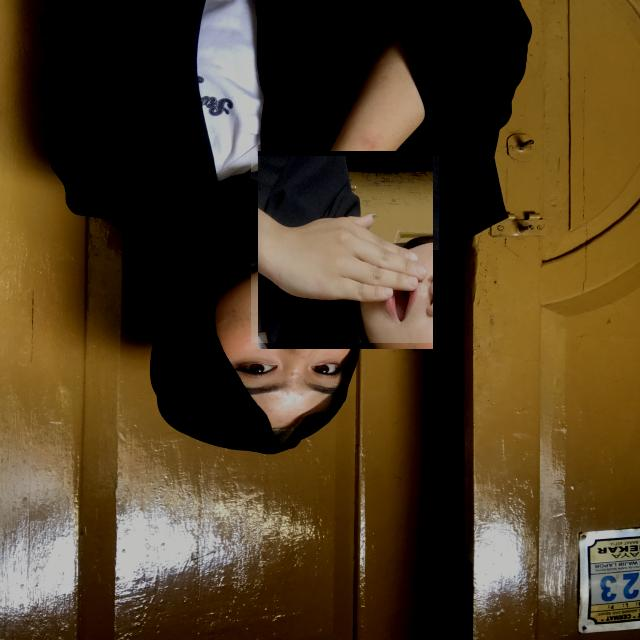ngantuk: (251, 156, 439, 343)
